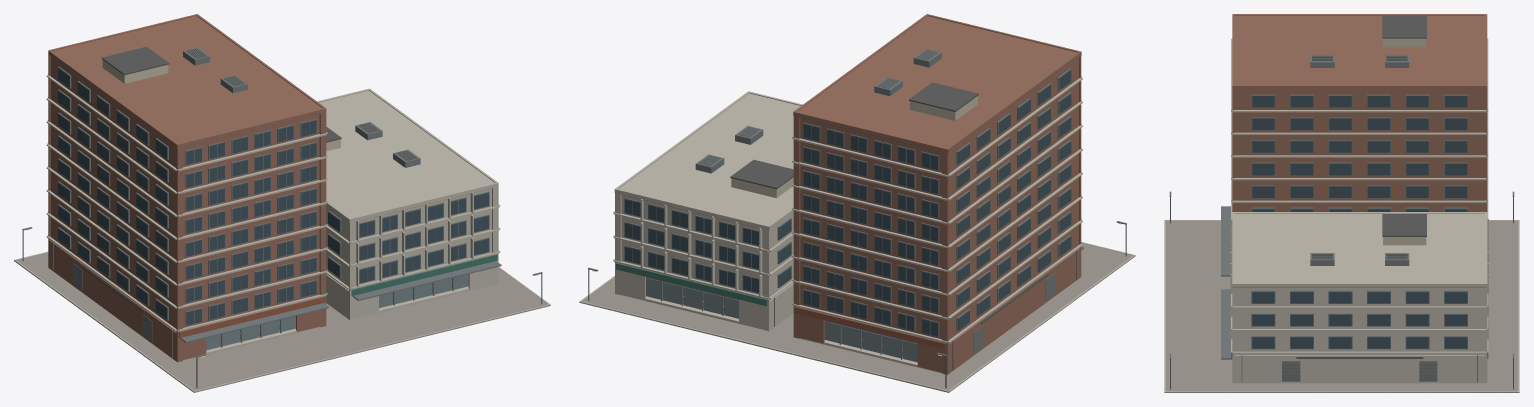
The model's file is block-1-1.glb.
3 views of the same model, side by side, from view 1: azimuth 30°, elevation 25°; view 2: azimuth 150°, elevation 25°; view 3: azimuth 270°, elevation 25° (orthographic). The views are drawn at different scales.
Parts seen in each view (by area): view 1: block-1-1:brick, block-1-1:concrete, block-1-1:glass, block-1-1:paversGrey, block-1-1:aluminium, block-1-1:shopGlass, block-1-1:roof, block-1-1:darkSteel, block-1-1:greenTrim, block-1-1:oxideTrim, block-1-1:stucco; view 2: block-1-1:brick, block-1-1:concrete, block-1-1:glass, block-1-1:aluminium, block-1-1:paversGrey, block-1-1:shopGlass, block-1-1:roof, block-1-1:stucco, block-1-1:darkSteel, block-1-1:oxideTrim, block-1-1:greenTrim; view 3: block-1-1:concrete, block-1-1:brick, block-1-1:paversGrey, block-1-1:glass, block-1-1:aluminium, block-1-1:roof, block-1-1:darkSteel, block-1-1:stucco.
Boxes of the visible parts, x1,y1,x2,y2 form: block-1-1:brick: [48, 14, 326, 362]; block-1-1:concrete: [14, 74, 550, 392]; block-1-1:glass: [58, 68, 488, 325]; block-1-1:paversGrey: [14, 252, 550, 392]; block-1-1:aluminium: [22, 47, 542, 357]; block-1-1:shopGlass: [206, 274, 468, 350]; block-1-1:roof: [101, 46, 492, 221]; block-1-1:darkSteel: [22, 48, 542, 388]; block-1-1:greenTrim: [351, 254, 497, 295]; block-1-1:oxideTrim: [179, 296, 324, 337]; block-1-1:stucco: [102, 60, 340, 151]; block-1-1:brick: [793, 14, 1081, 374]; block-1-1:concrete: [579, 76, 1135, 392]; block-1-1:glass: [625, 70, 1071, 336]; block-1-1:aluminium: [588, 48, 1126, 370]; block-1-1:paversGrey: [582, 243, 1134, 392]; block-1-1:shopGlass: [646, 277, 917, 362]; block-1-1:roof: [621, 82, 978, 229]; block-1-1:stucco: [731, 96, 977, 198]; block-1-1:darkSteel: [588, 49, 1126, 387]; block-1-1:oxideTrim: [794, 306, 945, 349]; block-1-1:greenTrim: [616, 263, 767, 306]; block-1-1:concrete: [1164, 38, 1519, 392]; block-1-1:brick: [1232, 14, 1487, 211]; block-1-1:paversGrey: [1164, 221, 1519, 392]; block-1-1:glass: [1252, 96, 1467, 348]; block-1-1:aluminium: [1169, 55, 1514, 382]; block-1-1:roof: [1233, 16, 1486, 287]; block-1-1:darkSteel: [1170, 55, 1513, 389]; block-1-1:stucco: [1383, 38, 1426, 245].
Size of the model in its own units: 48 by 29.31 by 42.
